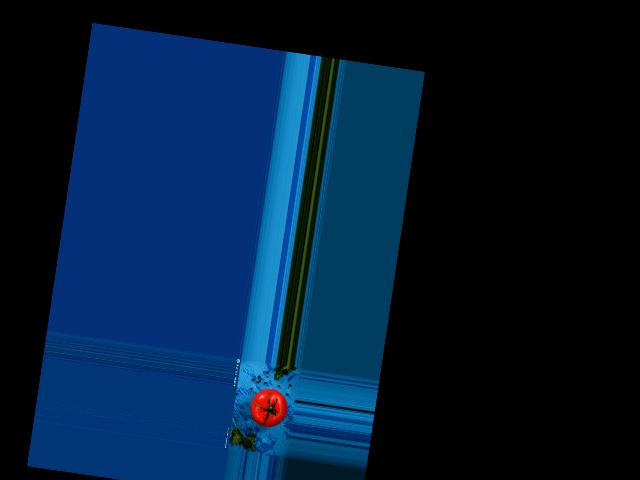tomato: (247, 386, 289, 430)
